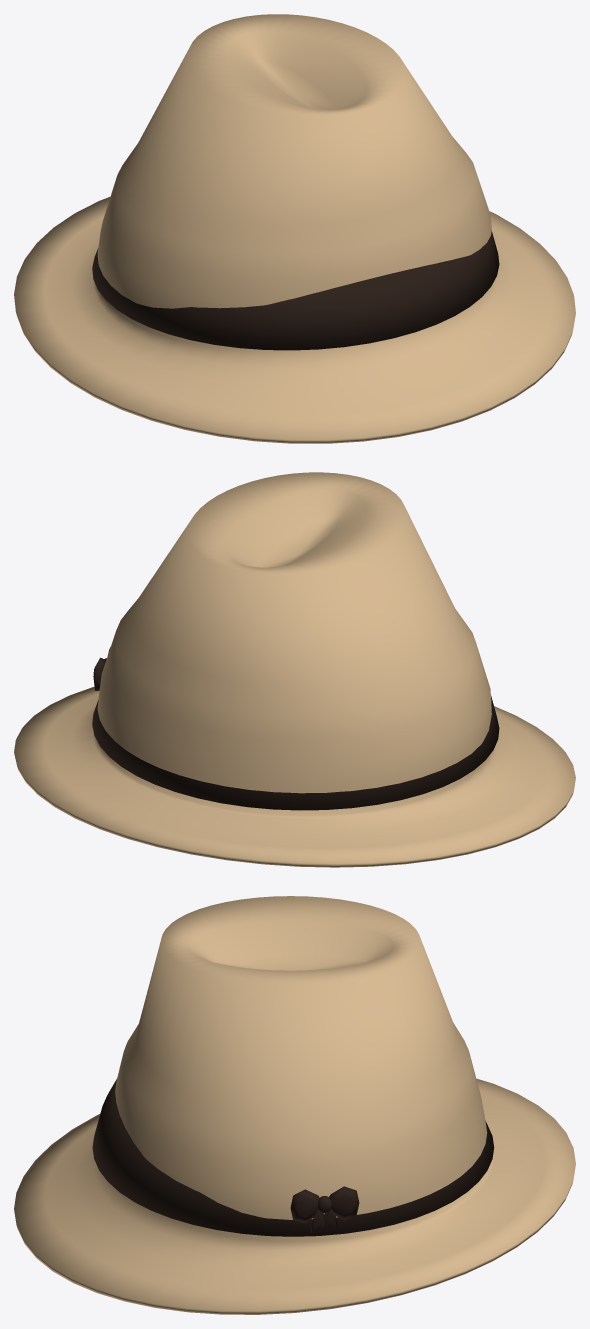
File: fedora.glb
3 views of the same model, one above another, from view 1: azimuth 30°, elevation 25°; view 2: azimuth 150°, elevation 25°; view 3: azimuth 270°, elevation 25° (orthographic). The views are drawn at different scales.
Parts seen in each view (by area): view 1: fedora; view 2: fedora; view 3: fedora.
Part boxes in pixels (left/top/right/bottom): fedora: left=14, top=14, right=575, bottom=443; fedora: left=14, top=472, right=575, bottom=867; fedora: left=14, top=896, right=575, bottom=1314.
Size of the model in its own units: 0.3733 by 0.1938 by 0.3616.
